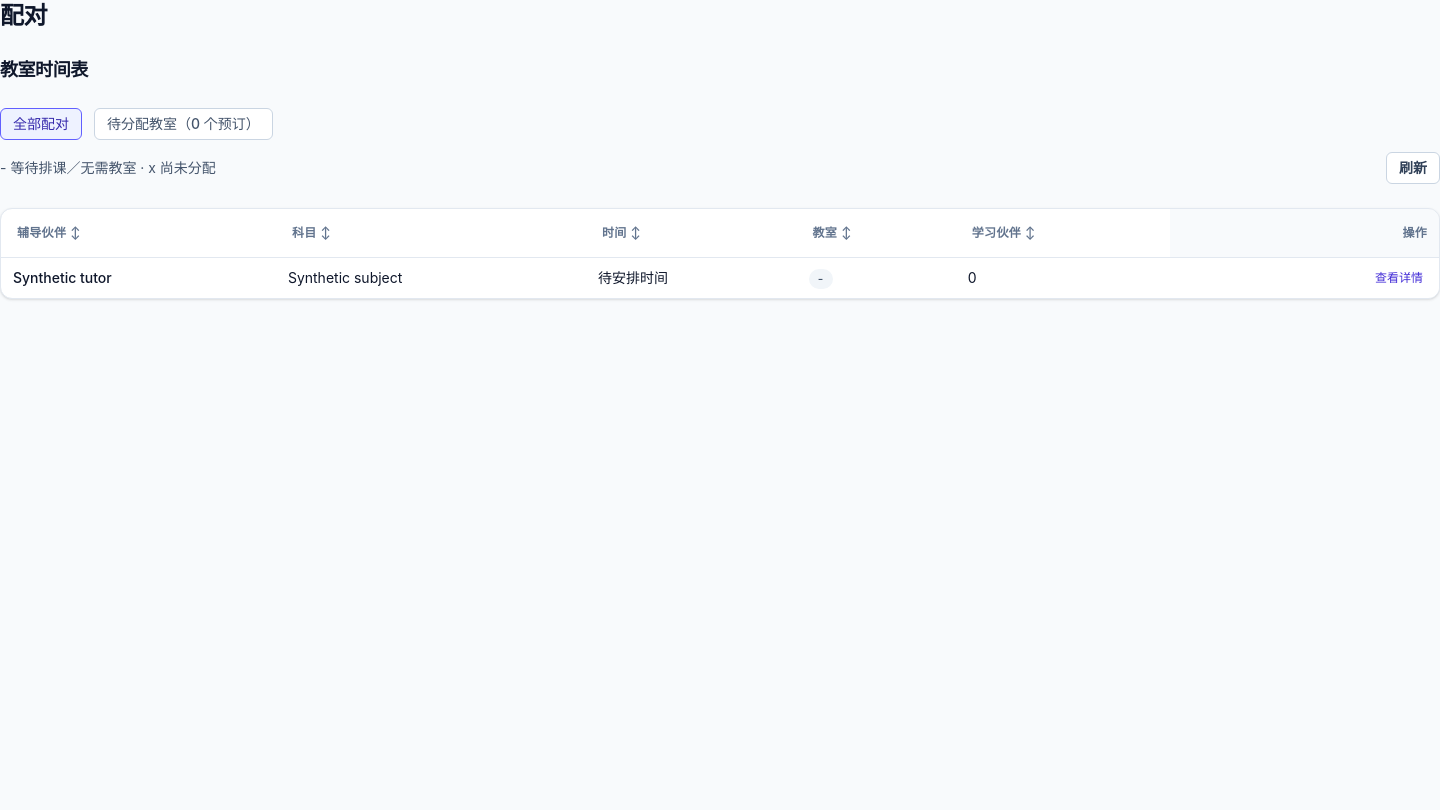
Test: keeps unconfirmed numeric placeholders out of the Chinese summary and reader
Expected: the cell "待安排时间" is shown, [586, 258, 796, 298]
Click the button with aria-label "Synthetic tutor · Synthetic subject": (1399, 278) [1371, 266, 1427, 290]
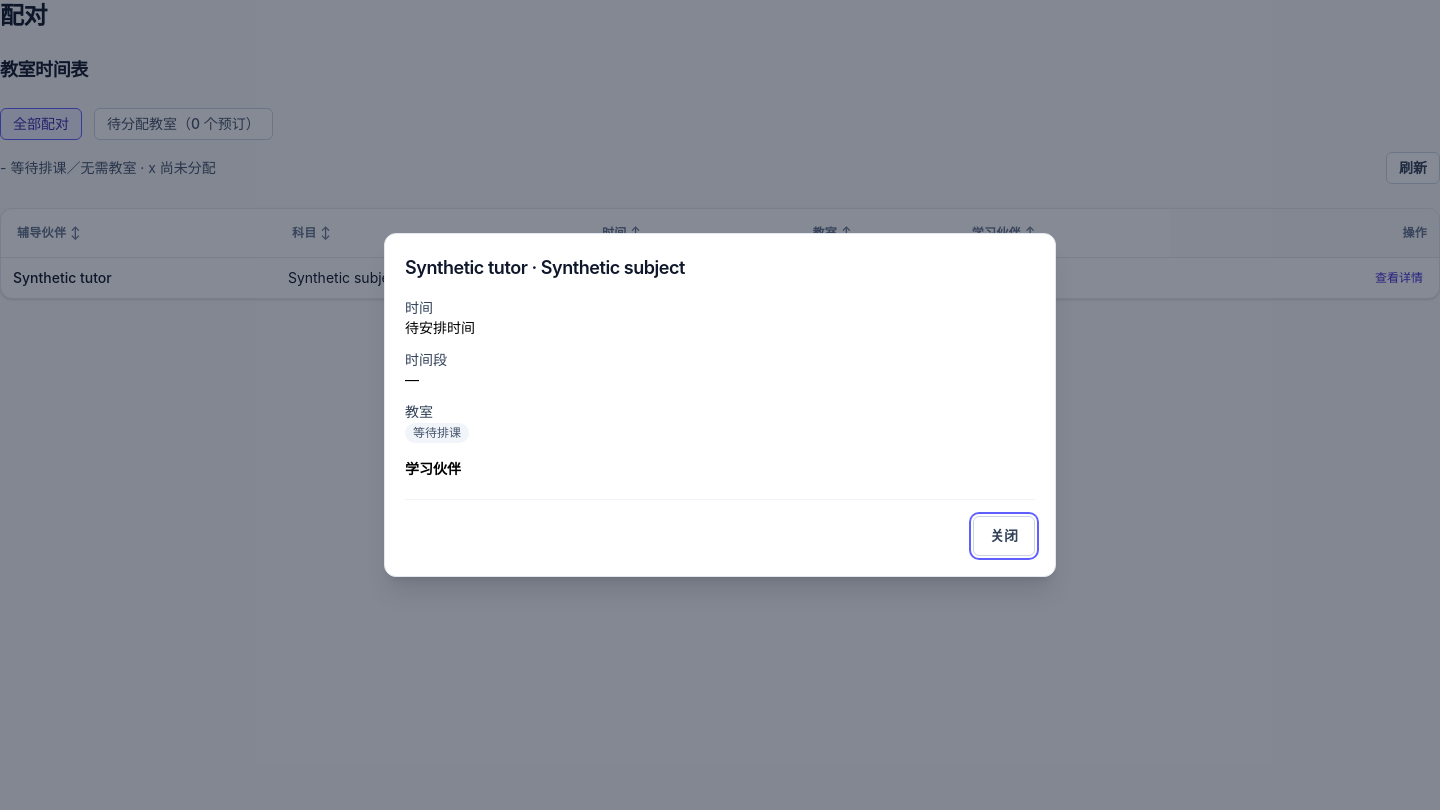
Now the dialog shows "待安排时间", box [405, 319, 475, 336]
